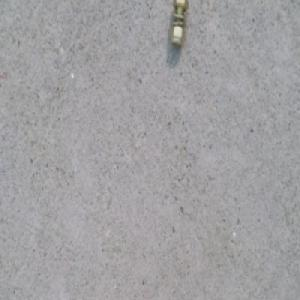BoltNutSet: (168, 0, 191, 47)
